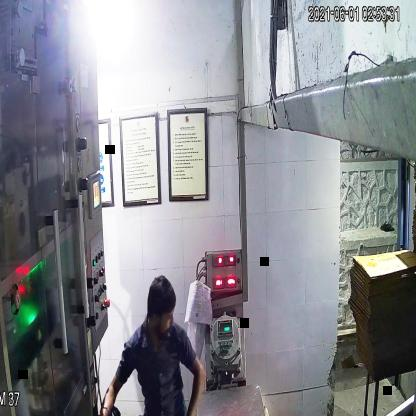no_goggles: (149, 307, 176, 327)
